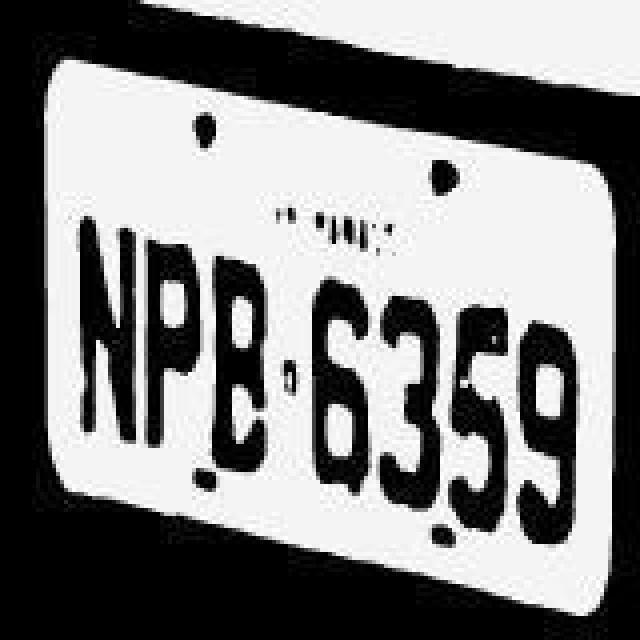3: (376, 264, 448, 520)
5: (446, 254, 514, 530)
6: (298, 262, 374, 506)
9: (516, 282, 588, 550)
B: (204, 240, 276, 472)
N: (68, 192, 140, 464)
P: (140, 204, 212, 468)
